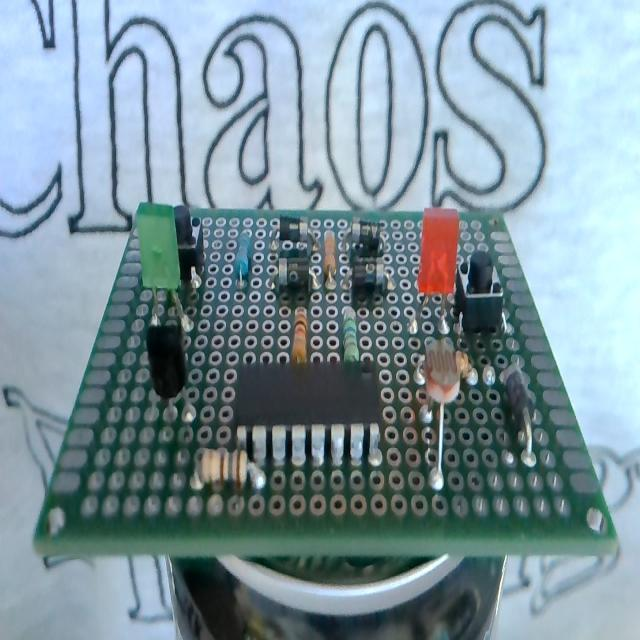IC: (235, 359, 385, 467)
cds: (406, 342, 464, 498)
diode: (498, 361, 544, 473), (341, 254, 398, 298), (268, 213, 321, 257), (339, 217, 390, 260), (265, 258, 323, 292)
led: (406, 207, 460, 335), (134, 201, 188, 328)
resistor: (190, 445, 268, 495), (334, 309, 364, 362), (232, 226, 253, 294), (289, 306, 312, 364), (323, 222, 338, 301)
switch: (459, 249, 509, 338)
transistor: (135, 325, 204, 427)
